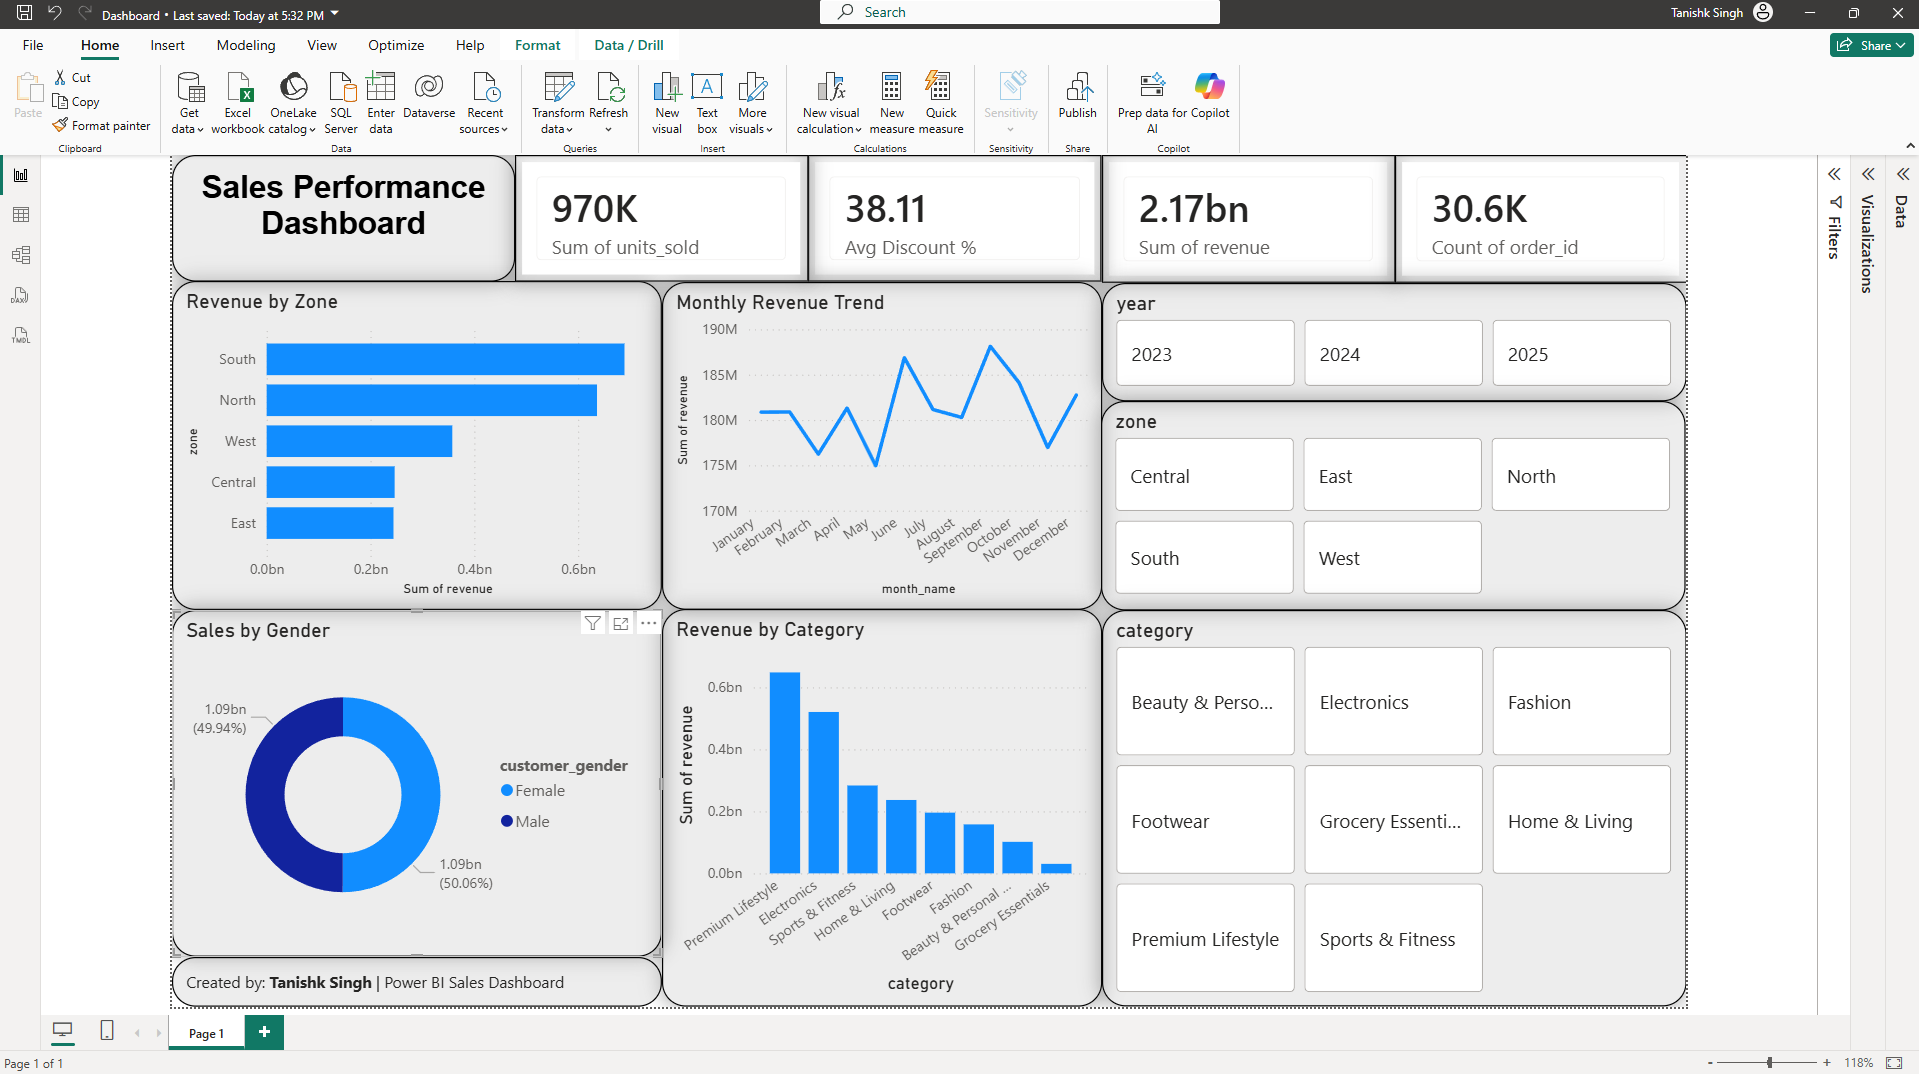

The page's visual inventory and layout, read from the dashboard file:
{"tool":"powerbi","page":{"name":"Page 1","canvas":[1280,720],"ordinal":0},"visuals":[{"type":"cardVisual","fields":{"Data":["Sum(final_cleaned_dataset.revenue)"]},"box":[785.9,0,247.6,108.2],"z":0},{"type":"cardVisual","fields":{"Data":["Count(final_cleaned_dataset.order_id)"]},"box":[1033.5,0,246.8,108.2],"z":1000},{"type":"cardVisual","fields":{"Data":["Avg(final_cleaned_dataset.discount_percent)"]},"box":[537.5,0,248.5,107.3],"z":2000},{"type":"columnChart","title":"Revenue by Category","fields":{"Category":["final_cleaned_dataset.category"],"Y":["Sum(final_cleaned_dataset.revenue)"]},"box":[414,383.8,371.8,336.4],"z":3000},{"type":"barChart","title":"Revenue by Zone","fields":{"Category":["final_cleaned_dataset.zone"],"Y":["Sum(final_cleaned_dataset.revenue)"]},"box":[0,106.1,414,277.7],"z":4000},{"type":"lineChart","title":"Monthly Revenue Trend","fields":{"Category":["final_cleaned_dataset.month_name"],"Y":["Sum(final_cleaned_dataset.revenue)"]},"box":[414.1,107.3,371.8,277.2],"z":5000},{"type":"donutChart","title":"Sales by Gender","fields":{"Category":["final_cleaned_dataset.customer_gender"],"Y":["Sum(final_cleaned_dataset.total_sales)"]},"box":[0,384.7,414,293.3],"z":6000},{"type":"advancedSlicerVisual","fields":{"Values":["final_cleaned_dataset.year"]},"box":[785.9,108.2,494.4,99.7],"z":7000},{"type":"advancedSlicerVisual","fields":{"Values":["final_cleaned_dataset.zone"]},"box":[785.1,207.9,494.4,176.6],"z":8000},{"type":"advancedSlicerVisual","fields":{"Values":["final_cleaned_dataset.category"]},"box":[785.9,384.5,494.4,335.5],"z":9000},{"type":"textbox","box":[0,0,289.9,107.3],"z":10000},{"type":"cardVisual","fields":{"Data":["Sum(final_cleaned_dataset.units_sold)"]},"box":[289.9,0,247.6,107.3],"z":11000},{"type":"textbox","box":[0,678,414,42.3],"z":11001}]}

Visuals, with their boxes on the page's 1280x720 design canvas (x1, y1, x2, y2). These are canvas units, not pixel positions in the 1919x1074 screenshot, which may show the page scaled, cropped or inside an application window:
cardVisual - Sum(final_cleaned_dataset.revenue): [x1=786, y1=0, x2=1034, y2=108]
cardVisual - Count(final_cleaned_dataset.order_id): [x1=1034, y1=0, x2=1280, y2=108]
cardVisual - Avg(final_cleaned_dataset.discount_percent): [x1=538, y1=0, x2=786, y2=107]
"Revenue by Category" columnChart: [x1=414, y1=384, x2=786, y2=720]
"Revenue by Zone" barChart: [x1=0, y1=106, x2=414, y2=384]
"Monthly Revenue Trend" lineChart: [x1=414, y1=107, x2=786, y2=384]
"Sales by Gender" donutChart: [x1=0, y1=385, x2=414, y2=678]
advancedSlicerVisual - final_cleaned_dataset.year: [x1=786, y1=108, x2=1280, y2=208]
advancedSlicerVisual - final_cleaned_dataset.zone: [x1=785, y1=208, x2=1280, y2=384]
advancedSlicerVisual - final_cleaned_dataset.category: [x1=786, y1=384, x2=1280, y2=720]
textbox: [x1=0, y1=0, x2=290, y2=107]
cardVisual - Sum(final_cleaned_dataset.units_sold): [x1=290, y1=0, x2=538, y2=107]
textbox: [x1=0, y1=678, x2=414, y2=720]
